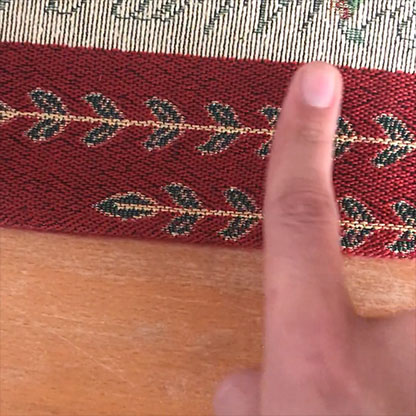fingertip: (280, 39, 353, 127)
